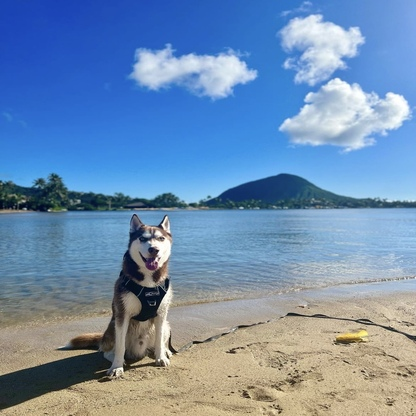husky: (57, 208, 196, 383)
